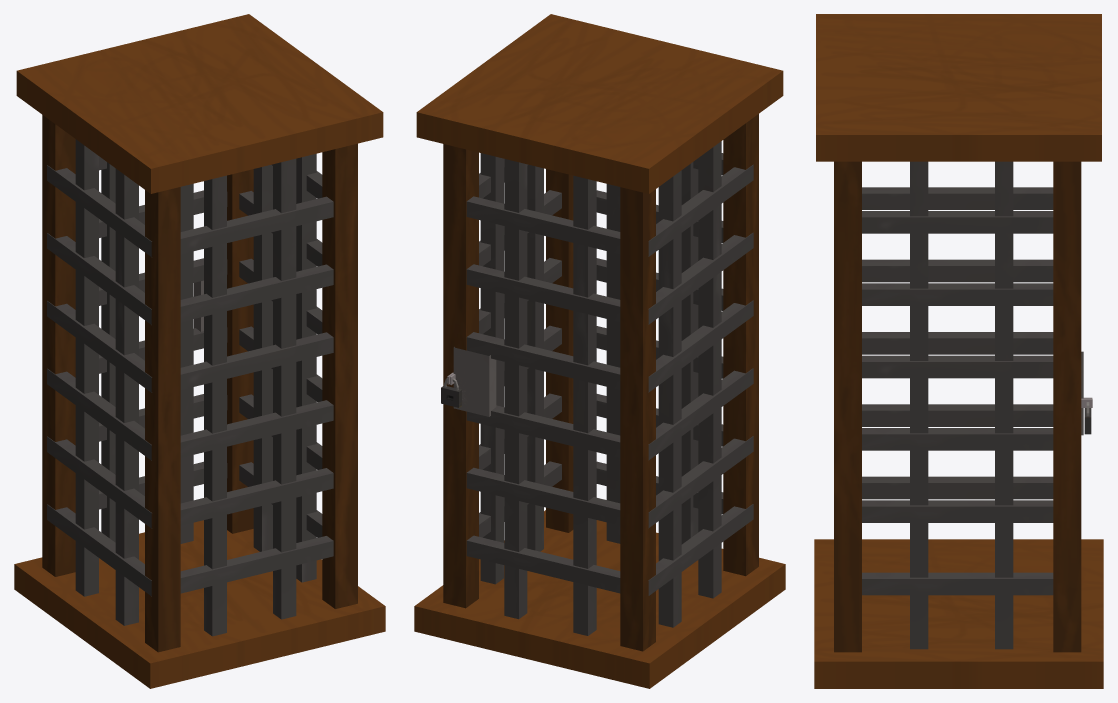
File: cage.glb
3 renders of one model, left to right at view 1: azimuth 30°, elevation 25°; view 2: azimuth 150°, elevation 25°; view 3: azimuth 270°, elevation 25°, orthographic. The views are drawn at different scales.
Parts seen in each view (by area): view 1: Cage _2; view 2: Cage _2; view 3: Cage _2.
Boxes of the visible parts, <box> form: Cage _2: <box>14,14,385,688</box>; Cage _2: <box>414,14,785,688</box>; Cage _2: <box>814,14,1103,688</box>.
Size of the model in its own units: 2.54 by 5.36 by 2.54.
1 material, 1 textured.
